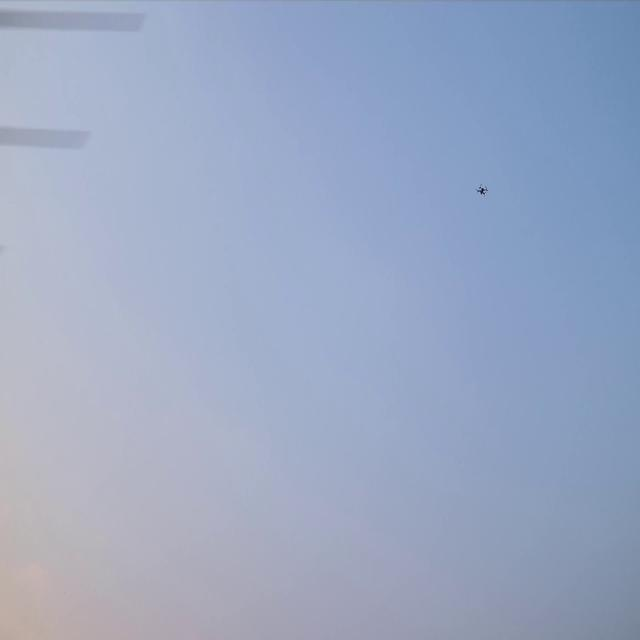UAV: (475, 182, 489, 198)
